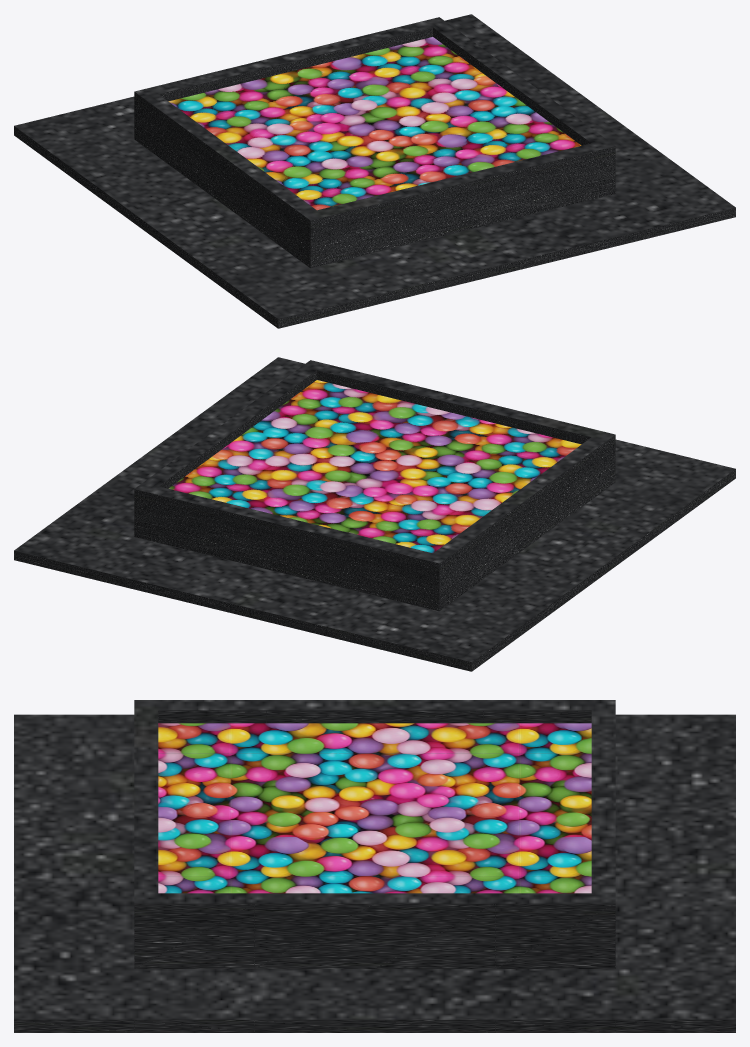
File: test2_ball-pit.glb
3 renders of one model, top to bottom at view 1: azimuth 30°, elevation 25°; view 2: azimuth 150°, elevation 25°; view 3: azimuth 270°, elevation 25°, orthographic. The views are drawn at different scales.
Visible parts, largest first — view 1: picine_boulle.001; view 2: picine_boulle.001; view 3: picine_boulle.001.
Part boxes in pixels (left/top/right/bottom): picine_boulle.001: left=14, top=14, right=735, bottom=328; picine_boulle.001: left=14, top=357, right=735, bottom=671; picine_boulle.001: left=14, top=700, right=735, bottom=1032.
Bounding box in the file's own units: 20 × 2.4 × 20.
Materials: 2 (2 with a texture image).
